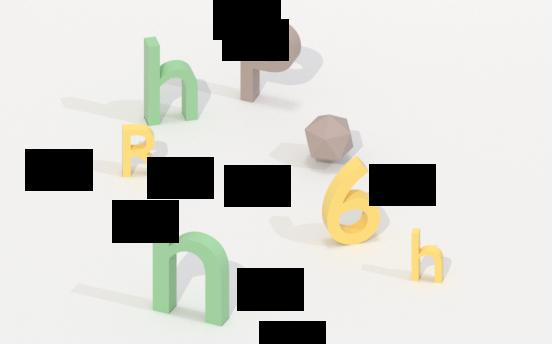6: (317, 160, 385, 251)
R-hoa: (117, 120, 169, 184)
dagiac: (302, 113, 357, 163)
h: (139, 37, 208, 127), (405, 223, 451, 287)
n: (145, 223, 239, 325)
p: (237, 13, 304, 108)
